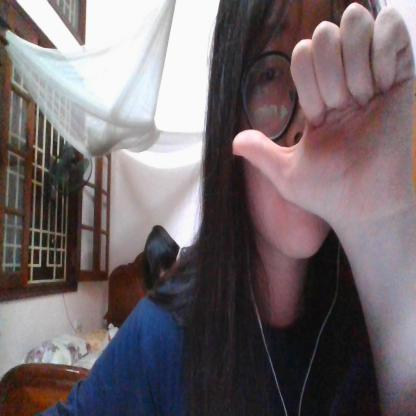right: (230, 3, 416, 235)
